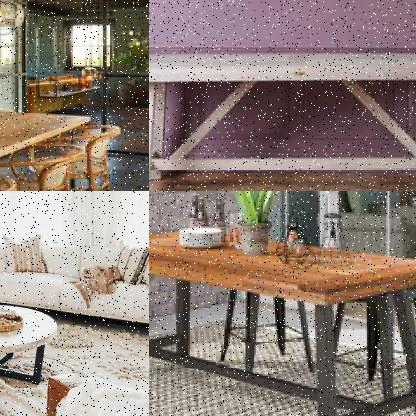table: (149, 217, 415, 415), (149, 46, 415, 190), (0, 101, 102, 190), (0, 299, 60, 396)
